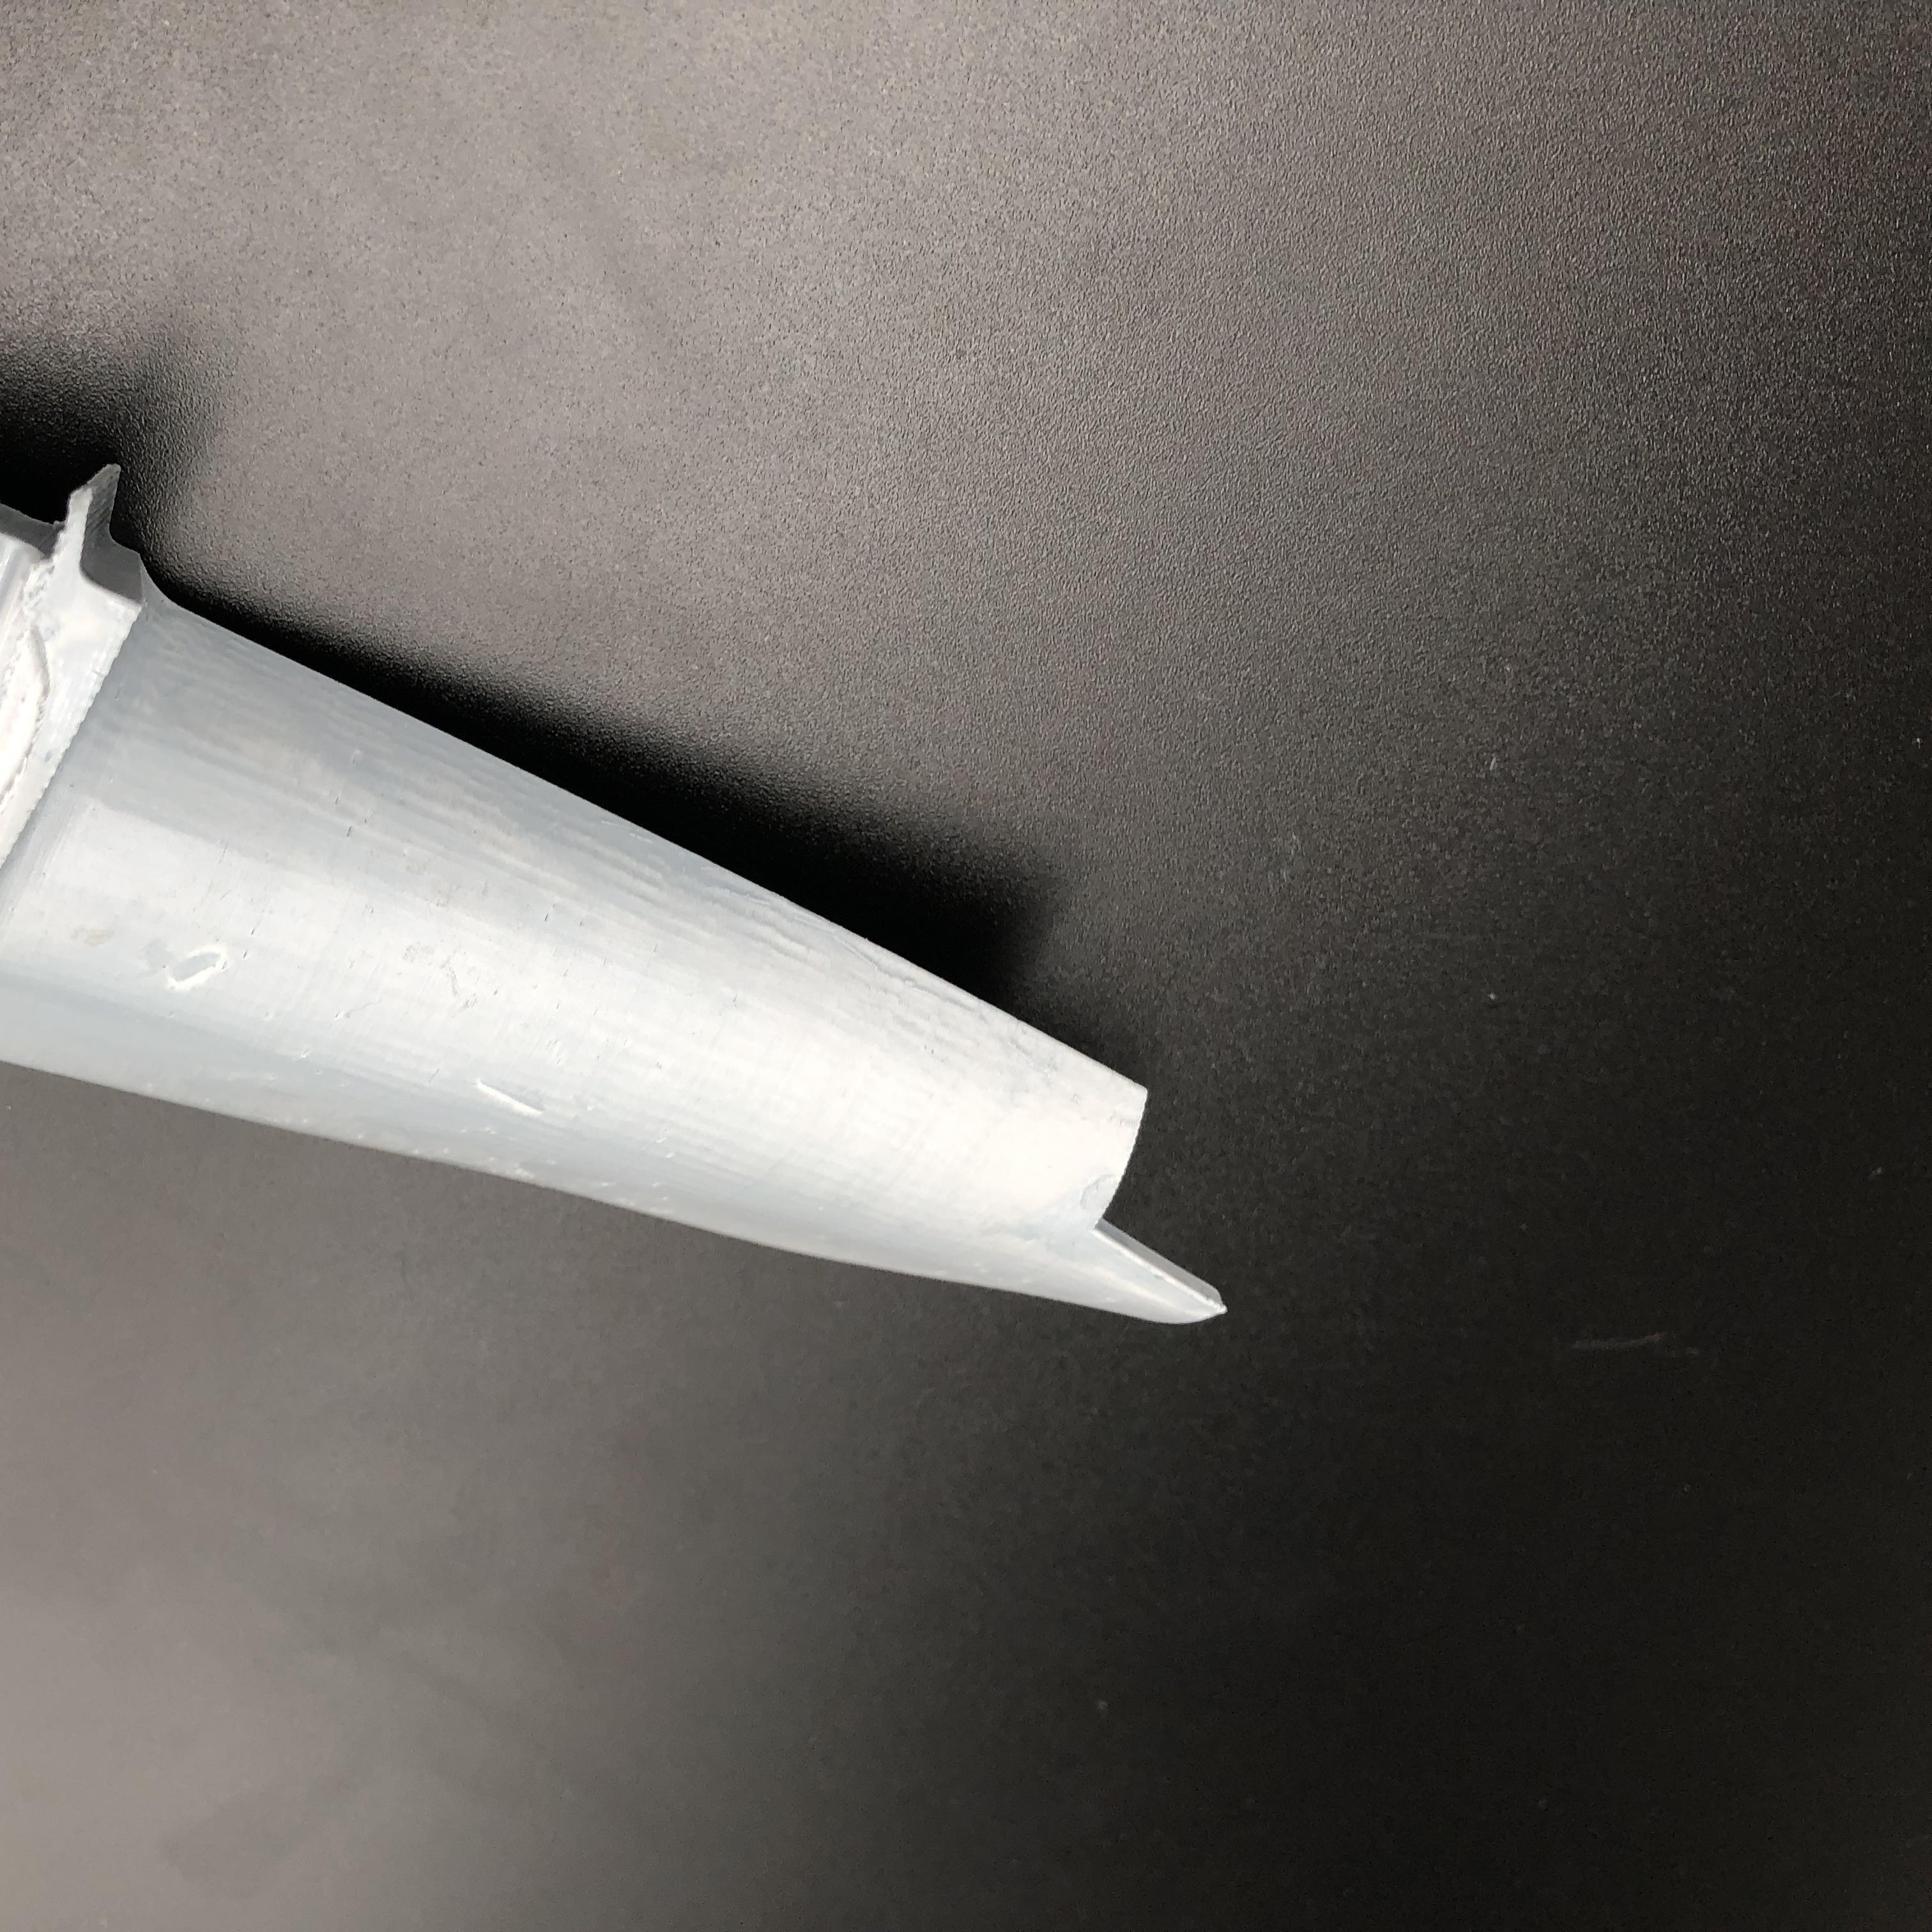fracture: (1054, 1077, 1226, 1299)
